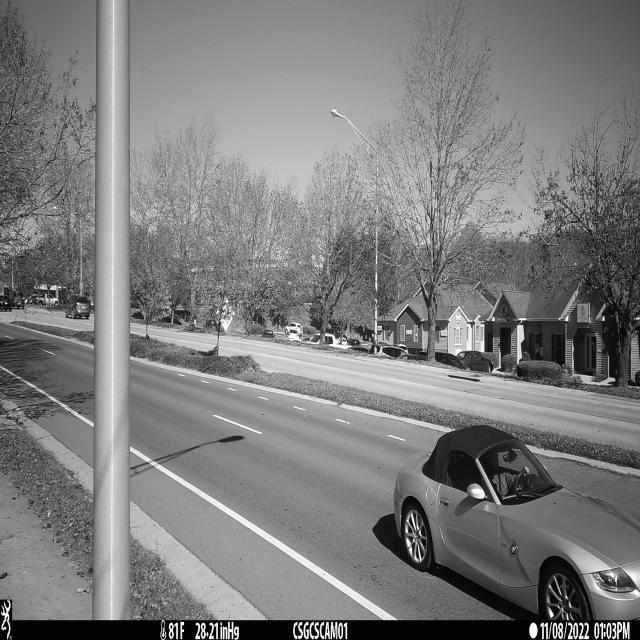Sedan: (393, 425, 640, 640)
